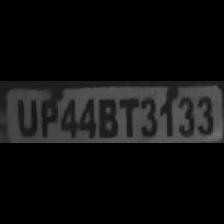1: (159, 95, 175, 139)
3: (138, 95, 158, 139), (195, 92, 213, 136), (176, 93, 194, 136)
4: (75, 93, 95, 137), (58, 95, 78, 138)
B: (96, 93, 118, 137)
P: (39, 96, 57, 138)
T: (119, 95, 138, 139)
U: (14, 97, 38, 137)
